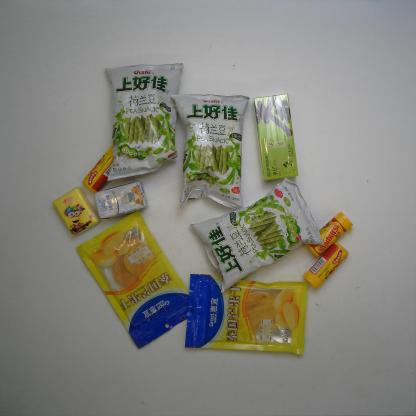Candy: (303, 239, 349, 290), (306, 211, 354, 258), (80, 144, 124, 194)
Dried Fruit: (75, 210, 199, 350), (184, 273, 310, 356)
Instant Drink: (253, 93, 298, 180)
Milk: (93, 180, 148, 221)
Puffed Food: (188, 176, 326, 294), (103, 62, 185, 183), (170, 93, 250, 210)
Tissue: (52, 186, 100, 236)
